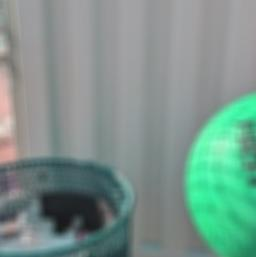algae: (188, 86, 256, 257)
